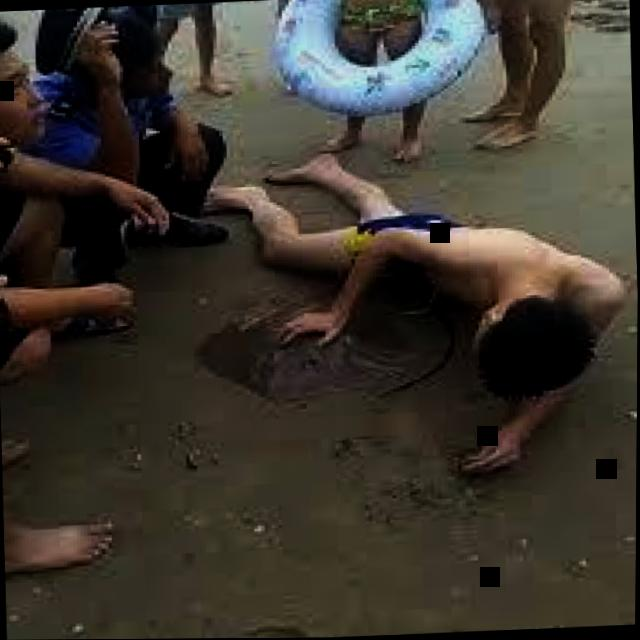Fall-Detected: (196, 117, 631, 489)
